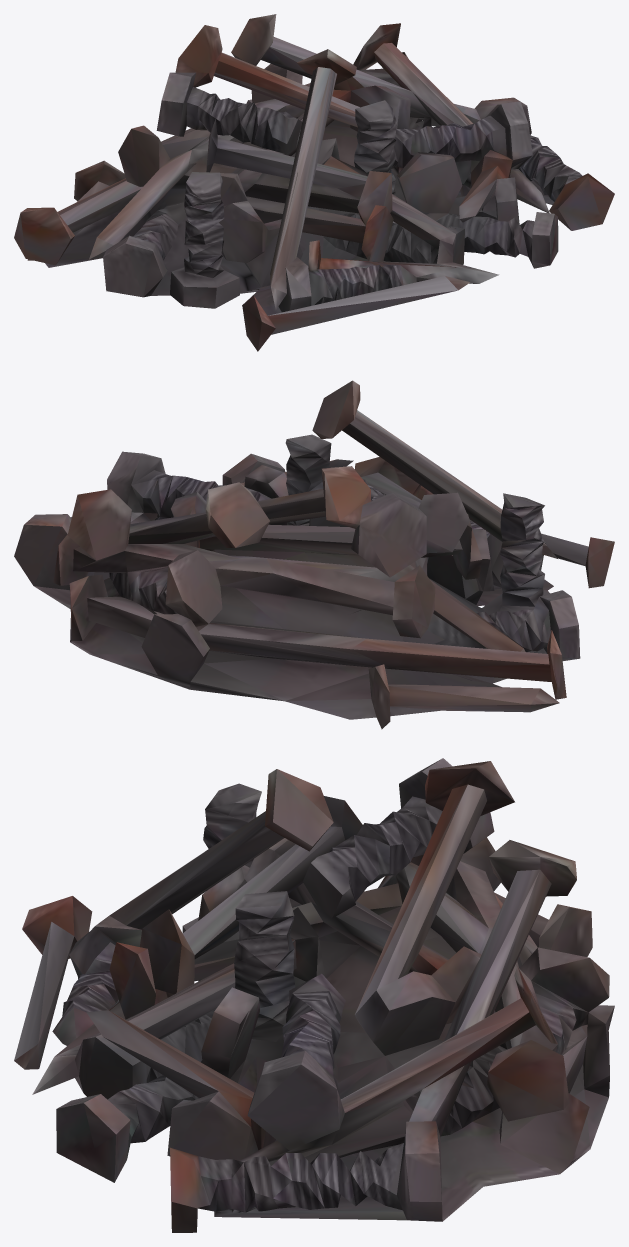
File: mat_bolts_idle.glb
3 views of the same model, one above another, from view 1: azimuth 30°, elevation 25°; view 2: azimuth 150°, elevation 25°; view 3: azimuth 270°, elevation 25° (orthographic). The views are drawn at different scales.
Parts seen in each view (by area): view 1: tripo_node_0094fef0-43f9-455d-82e7-135d3e865980; view 2: tripo_node_0094fef0-43f9-455d-82e7-135d3e865980; view 3: tripo_node_0094fef0-43f9-455d-82e7-135d3e865980.
Part boxes in pixels (<box>): tripo_node_0094fef0-43f9-455d-82e7-135d3e865980: <box>14,14,614,351</box>; tripo_node_0094fef0-43f9-455d-82e7-135d3e865980: <box>14,380,614,729</box>; tripo_node_0094fef0-43f9-455d-82e7-135d3e865980: <box>14,758,614,1232</box>.
Size of the model in its own units: 0.2979 by 0.119 by 0.215.
1 material, 1 textured.
